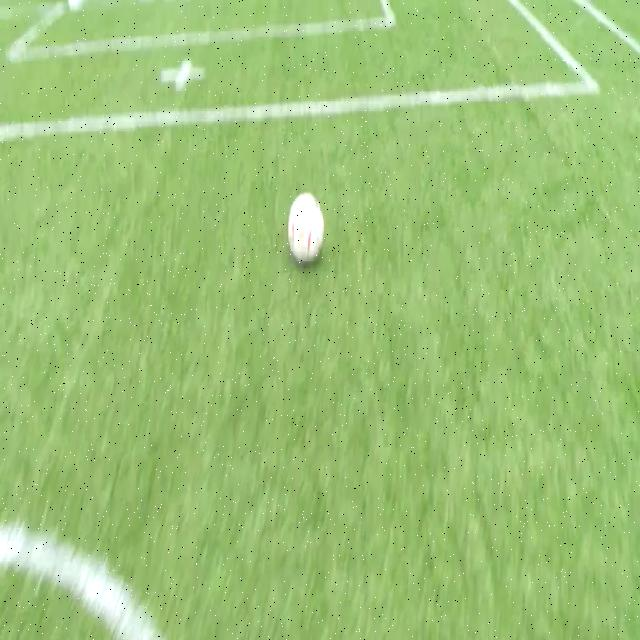ball: (288, 193, 324, 262)
